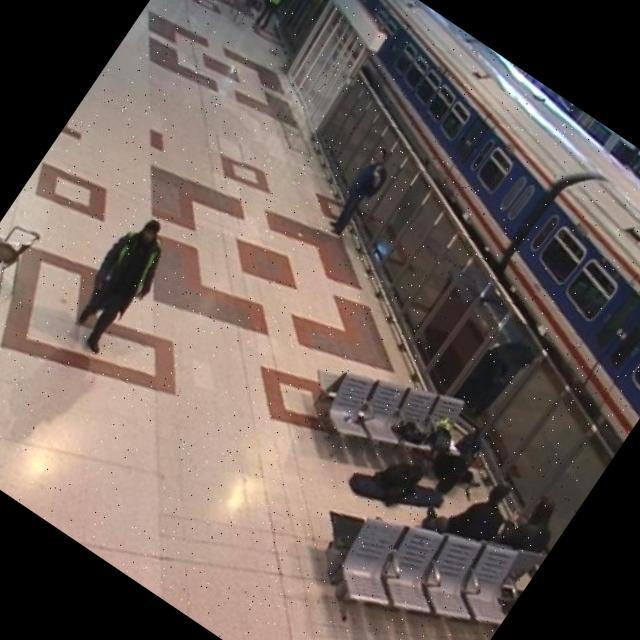person: (47, 202, 193, 370), (319, 142, 404, 246), (243, 0, 301, 36)
